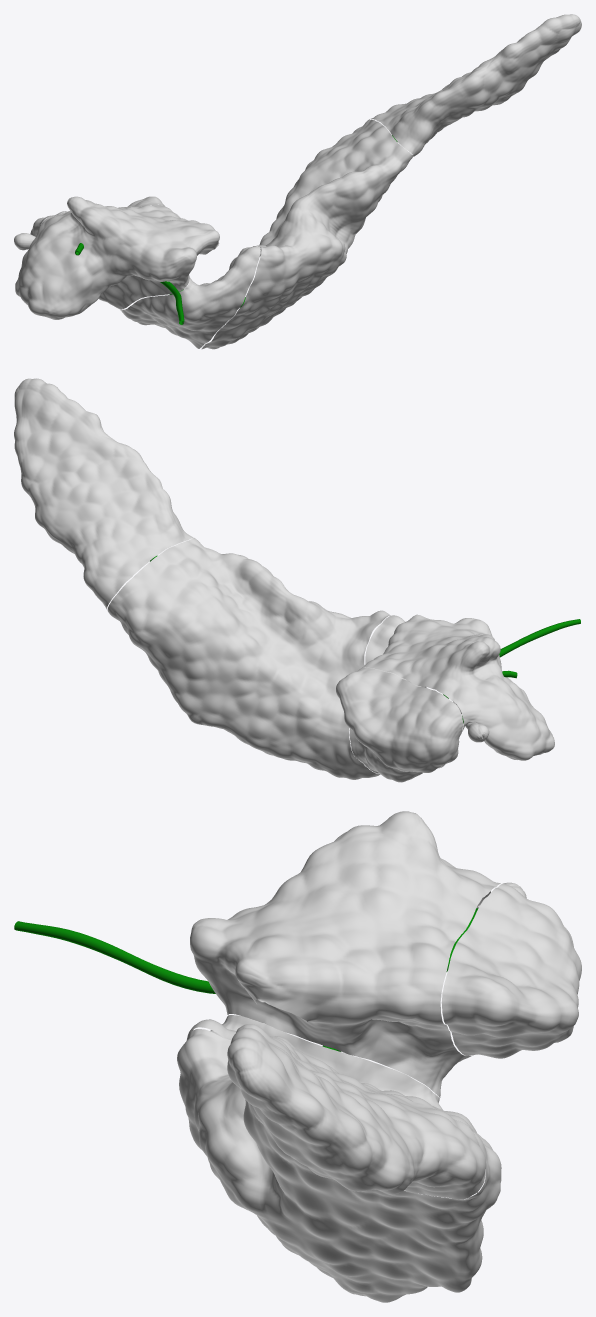
File: pancreas-female.glb
3 renders of one model, top to bottom at view 1: azimuth 30°, elevation 25°; view 2: azimuth 150°, elevation 25°; view 3: azimuth 270°, elevation 25°, orthographic. The views are drawn at different scales.
Visible parts, largest first — view 1: VH_F_head_of_pancreas, VH_F_body_of_pancreas, VH_F_tail_of_pancreas, VH_F_neck_of_pancreas, VH_F_uncinate_process; view 2: VH_F_body_of_pancreas, VH_F_tail_of_pancreas, VH_F_head_of_pancreas, VH_F_uncinate_process, VH_F_neck_of_pancreas, VH_F_common_bile_duct; view 3: VH_F_head_of_pancreas, VH_F_body_of_pancreas, VH_F_tail_of_pancreas, VH_F_uncinate_process, VH_F_neck_of_pancreas, VH_F_common_bile_duct.
Part boxes in pixels (x1,y1,x2,y2): VH_F_head_of_pancreas: (15, 196, 219, 319); VH_F_body_of_pancreas: (201, 119, 412, 349); VH_F_tail_of_pancreas: (371, 14, 581, 156); VH_F_neck_of_pancreas: (120, 246, 260, 348); VH_F_uncinate_process: (30, 196, 164, 236); VH_F_body_of_pancreas: (107, 537, 390, 779); VH_F_tail_of_pancreas: (14, 378, 192, 609); VH_F_head_of_pancreas: (362, 614, 554, 768); VH_F_uncinate_process: (336, 667, 463, 772); VH_F_neck_of_pancreas: (349, 615, 461, 782); VH_F_common_bile_duct: (499, 619, 580, 657); VH_F_head_of_pancreas: (190, 811, 500, 1098); VH_F_body_of_pancreas: (177, 1029, 501, 1302); VH_F_tail_of_pancreas: (227, 1024, 485, 1199); VH_F_uncinate_process: (441, 883, 581, 1058); VH_F_neck_of_pancreas: (187, 1015, 442, 1109); VH_F_common_bile_duct: (14, 908, 478, 993).
Bounding box in the file's own units: 173 × 85.55 × 83.35.
